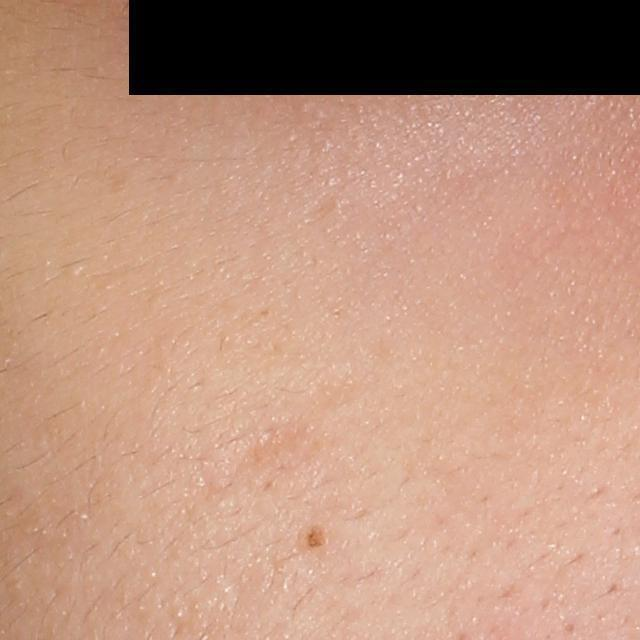nevus: (302, 523, 327, 550)
